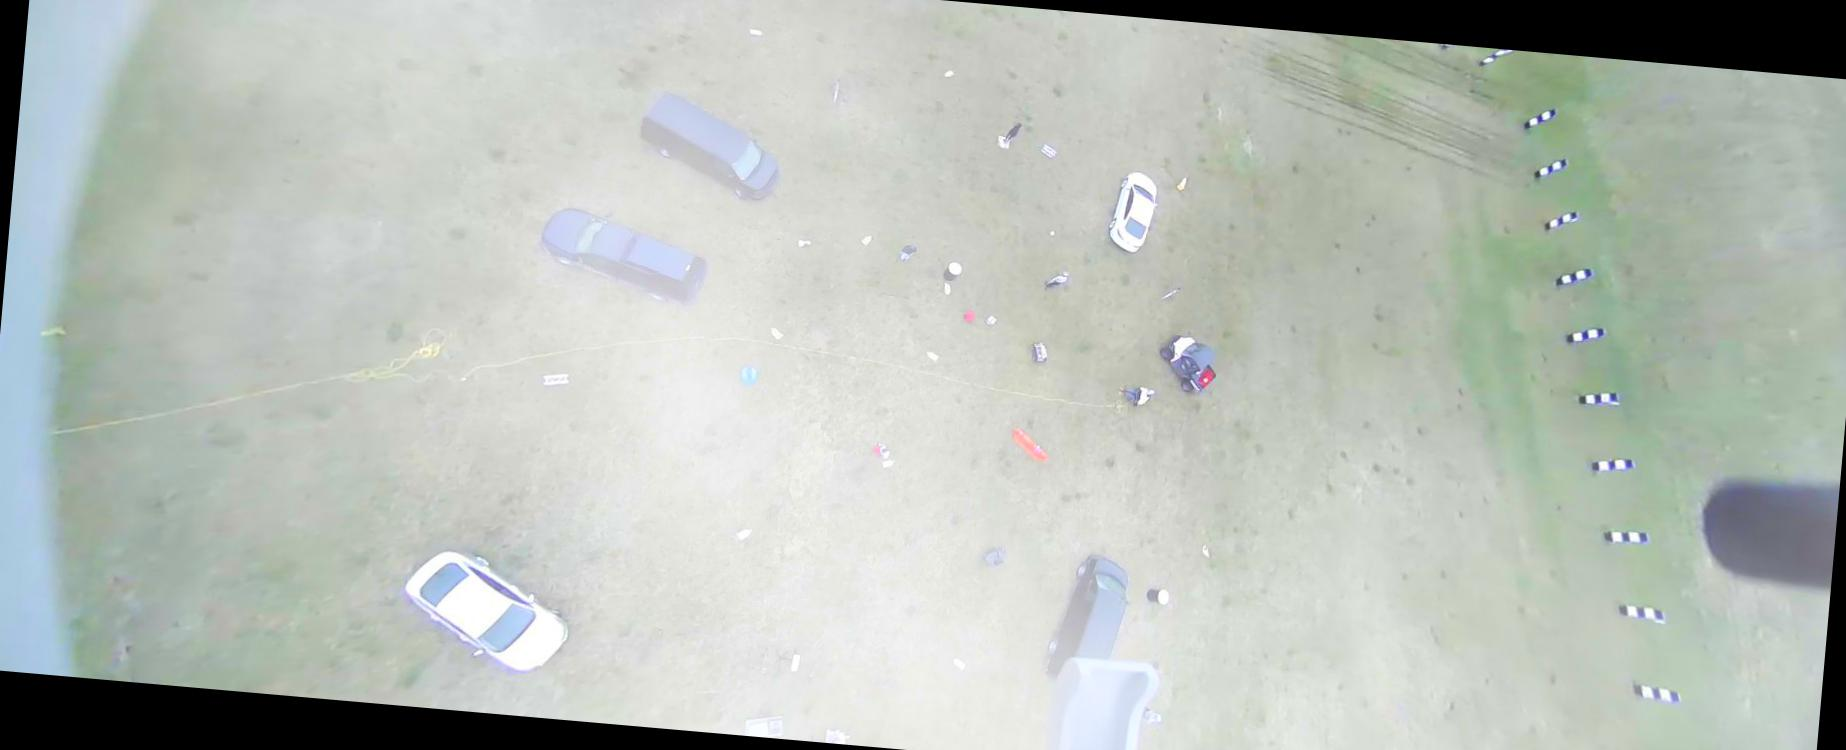vehicle: (398, 547, 576, 677), (534, 206, 710, 306), (635, 90, 786, 202), (1043, 550, 1133, 685), (1106, 170, 1161, 255), (1156, 332, 1220, 396)
